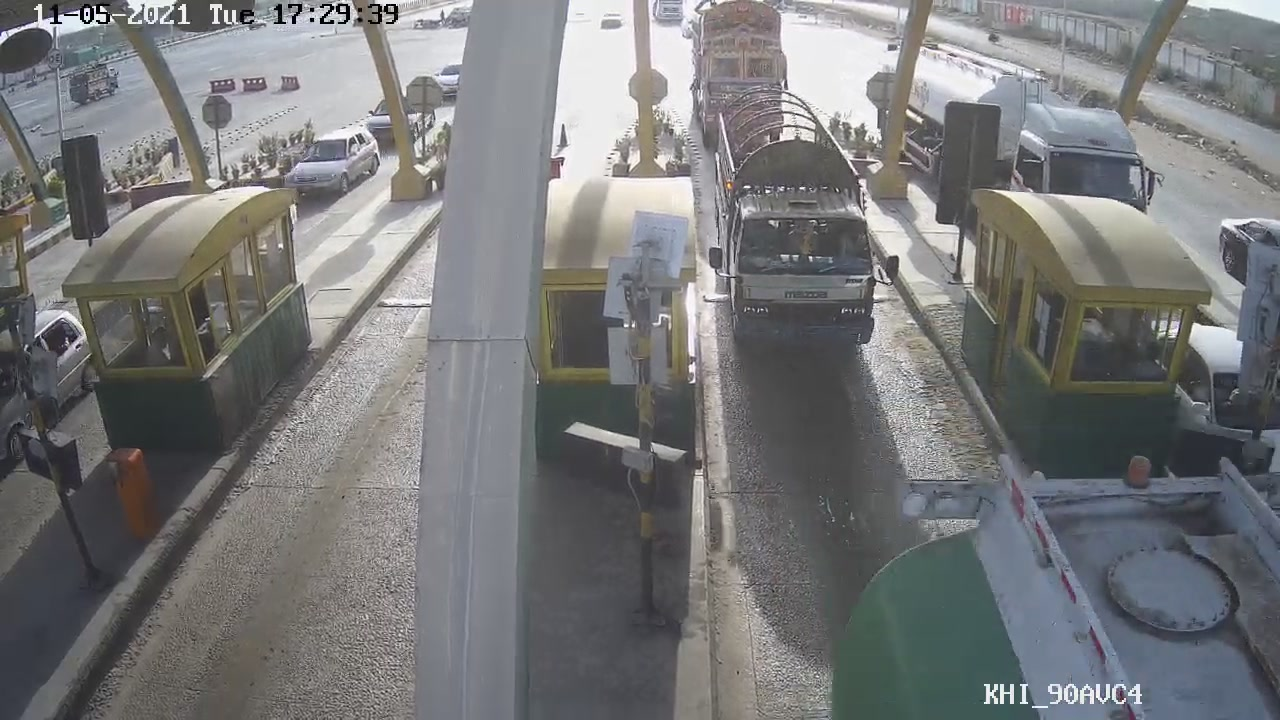F5: (689, 90, 896, 350)
